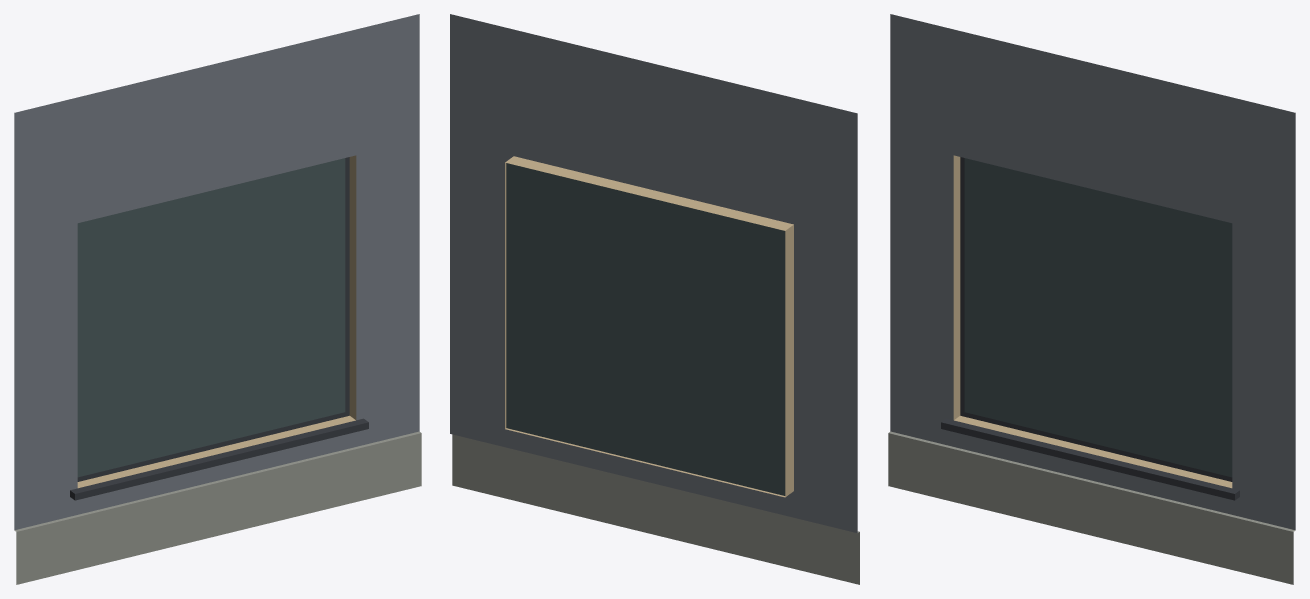
3 renders of one model, left to right at view 1: azimuth 30°, elevation 25°; view 2: azimuth 150°, elevation 25°; view 3: azimuth 330°, elevation 25°, orthographic.
Visible parts, largest first — view 1: a2000s2/600/base-w1; view 2: a2000s2/600/base-w1; view 3: a2000s2/600/base-w1.
Boxes of the visible parts, x1,y1,x2,y2 form: a2000s2/600/base-w1: (14,14,421,584); a2000s2/600/base-w1: (450,14,859,584); a2000s2/600/base-w1: (888,14,1295,584).
Size of the model in its own units: 3.2 by 3.55 by 0.19.
